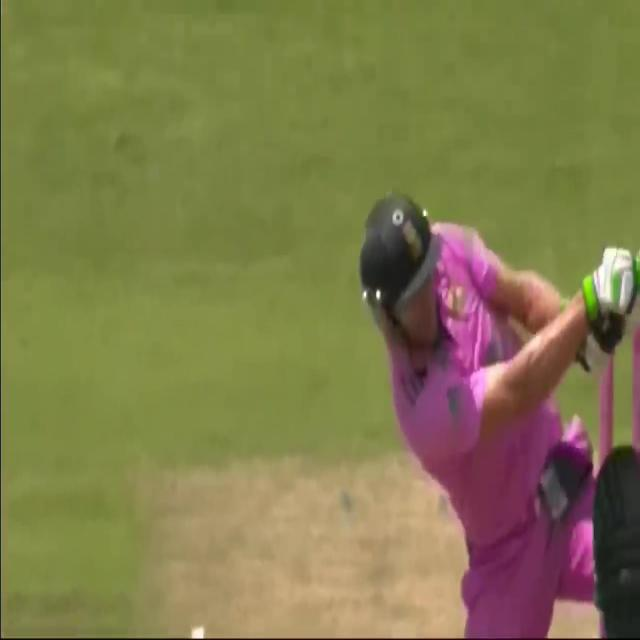Ball: (287, 12, 640, 633)
